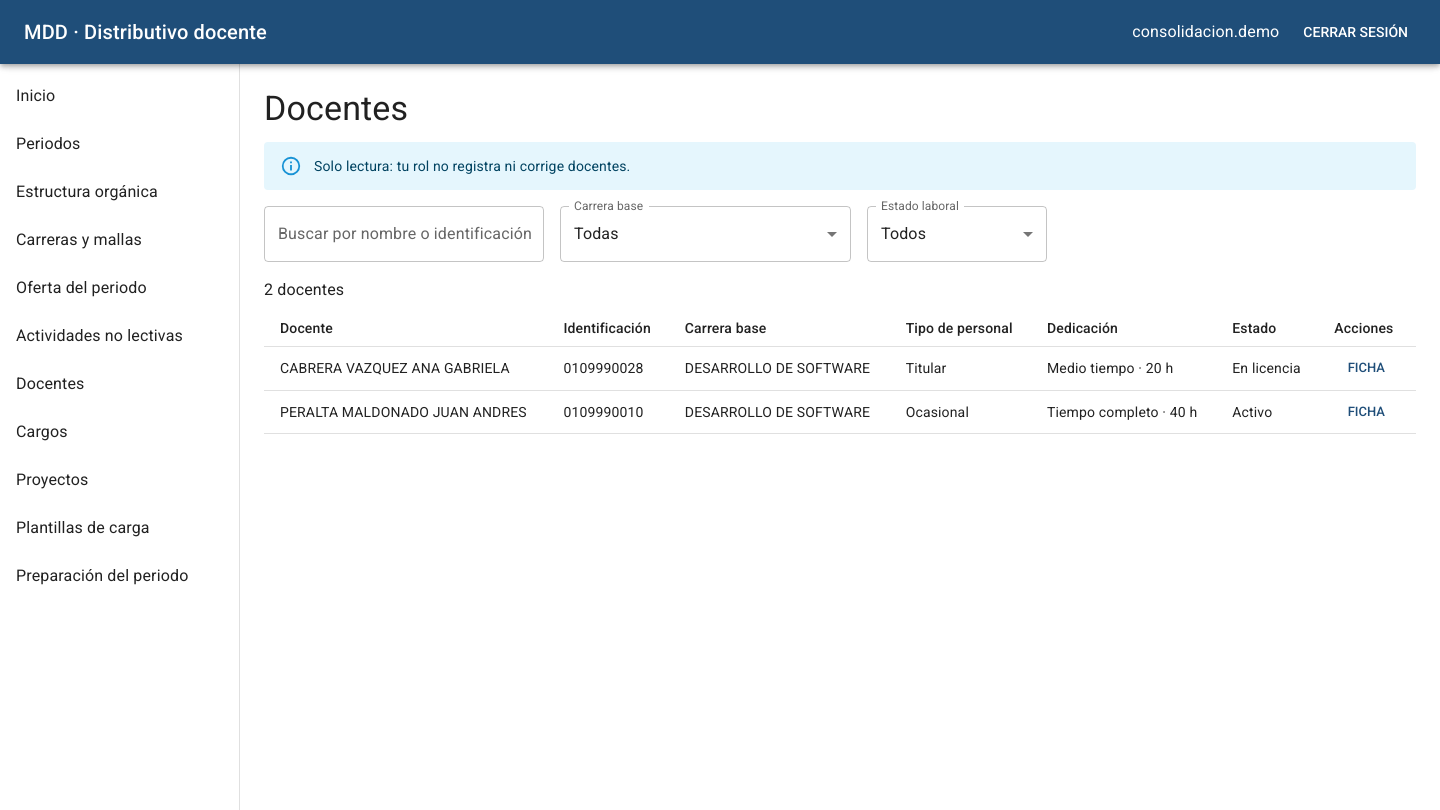
Test case: Docentes › muestra la ficha: cada título con su campo amplio y específico, y cada curso con sus horas
Click the button with aria-label "Ver la ficha de PERALTA MALDONADO JUAN ANDRES" at point(1366, 412), box [1334,397,1398,427]
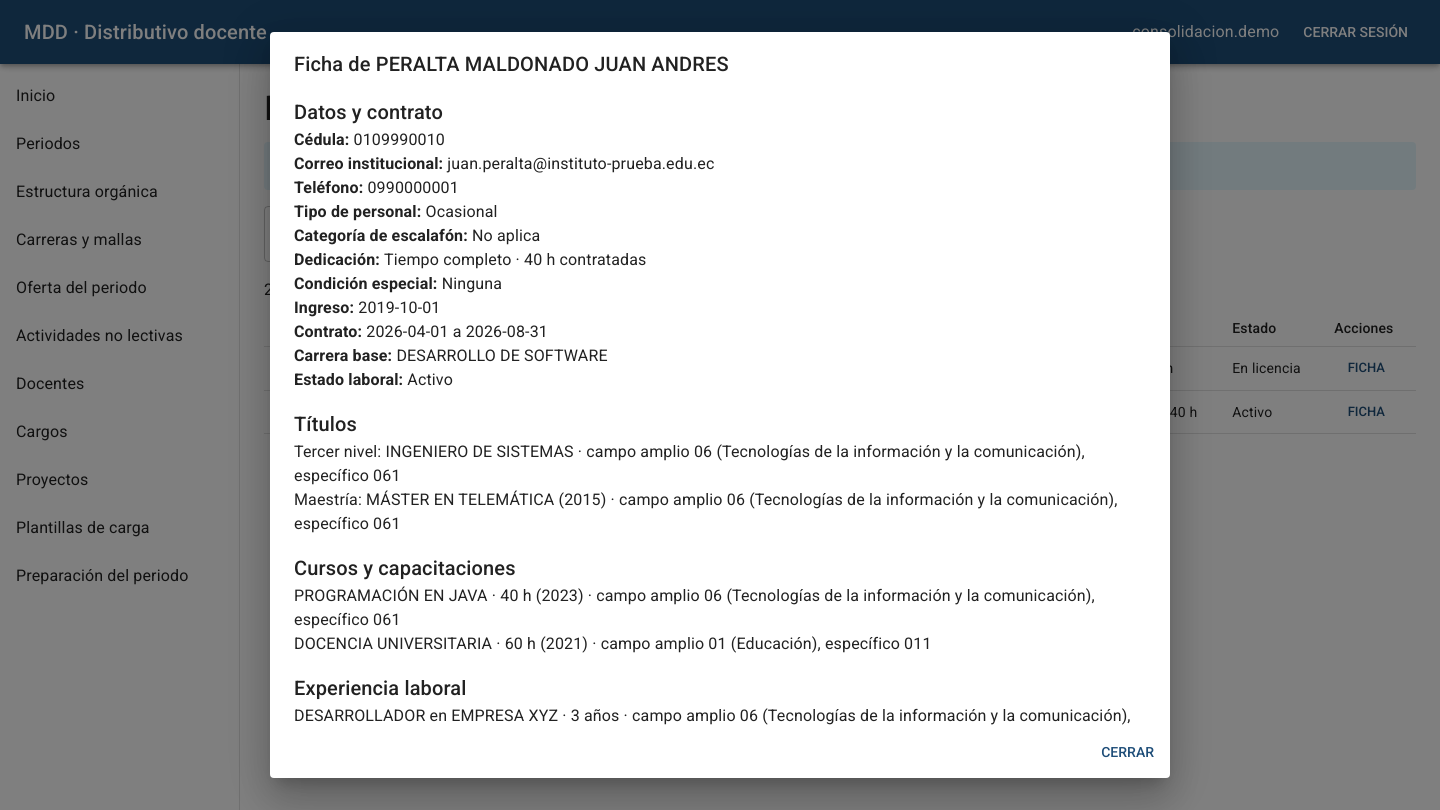
Check: the text "Tercer nivel: INGENIERO DE SISTEMAS · campo amplio 06 (Tecnologías de la información y la comunicación), específico 06" is shown, box [294,442,1085,485]
Check: the text "PROGRAMACIÓN EN JAVA · 40 h (2023) · campo amplio 06 (Tecnologías de la información y la comunicación), específico 061" is shown, box [294,586,1095,629]
Check: the text "DOCENCIA UNIVERSITARIA · 60 h (2021) · campo amplio 01 (Educación)" is shown, box [294,634,932,653]
